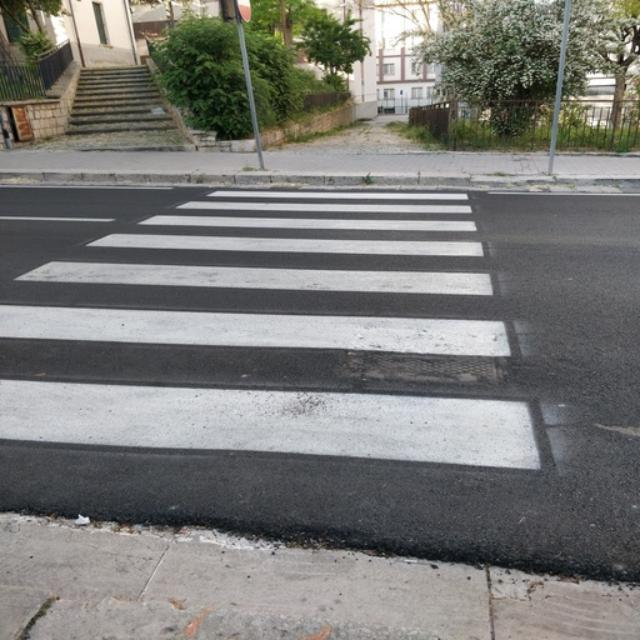sidewalk: (0, 184, 548, 469)
